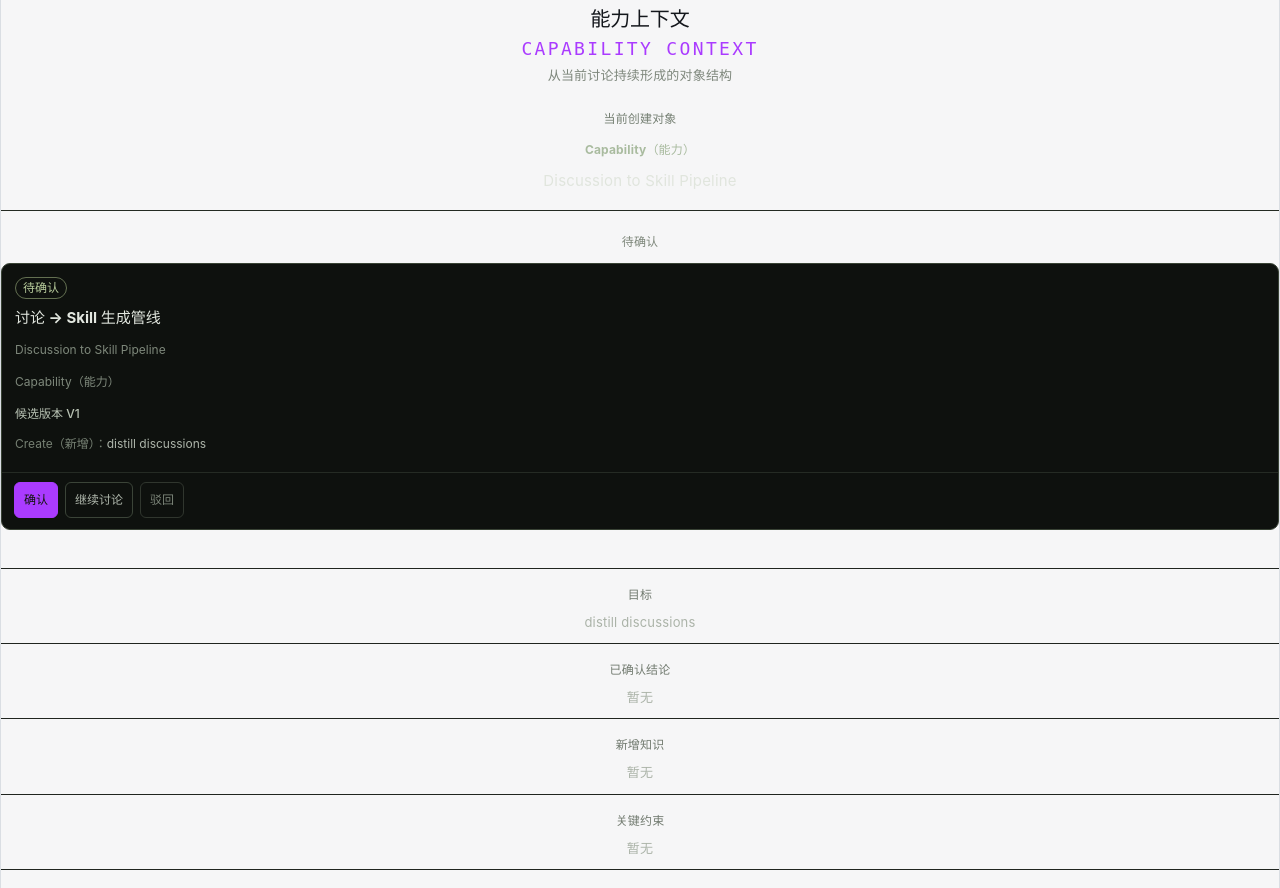
Scenario: ImplementationWorkspace › shows traceable bilingual detail for Discussion to Skill Pipeline
Click the button "讨论 → Skill 生成管线".
click(640, 366)  # box left=2, top=264, right=1278, bottom=467
(page scrolled)
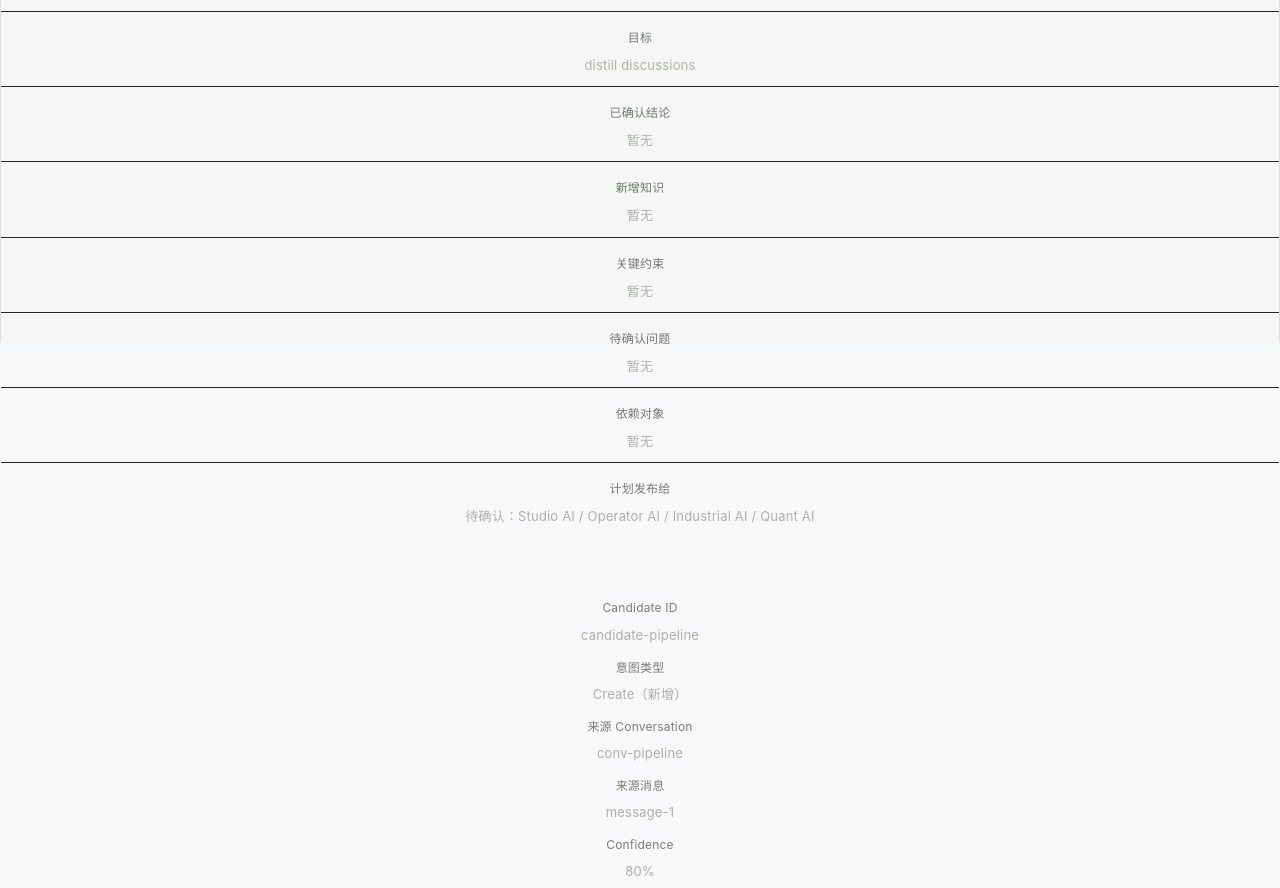
Expected: the text "candidate-pipeline" is shown, left=581, top=626, right=699, bottom=642
Expected: the text "conv-pipeline" is shown, left=597, top=745, right=683, bottom=761
Expected: the text "message-1" is shown, left=606, top=804, right=674, bottom=820
